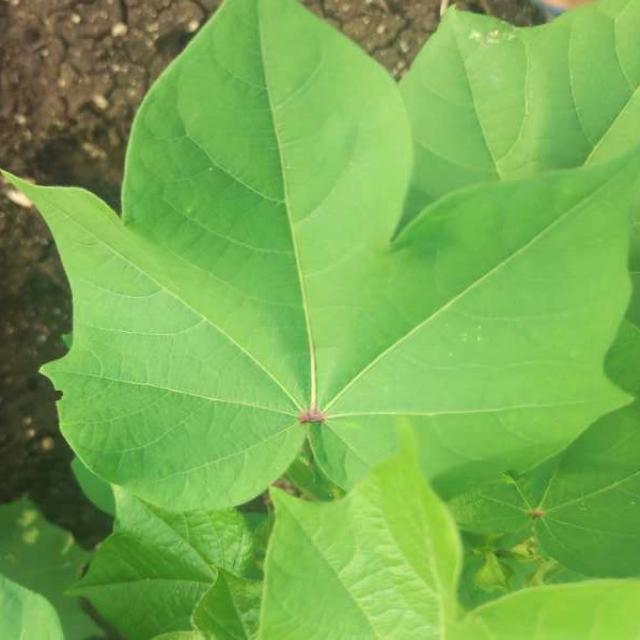Healthy Leaf: (65, 22, 640, 640)
